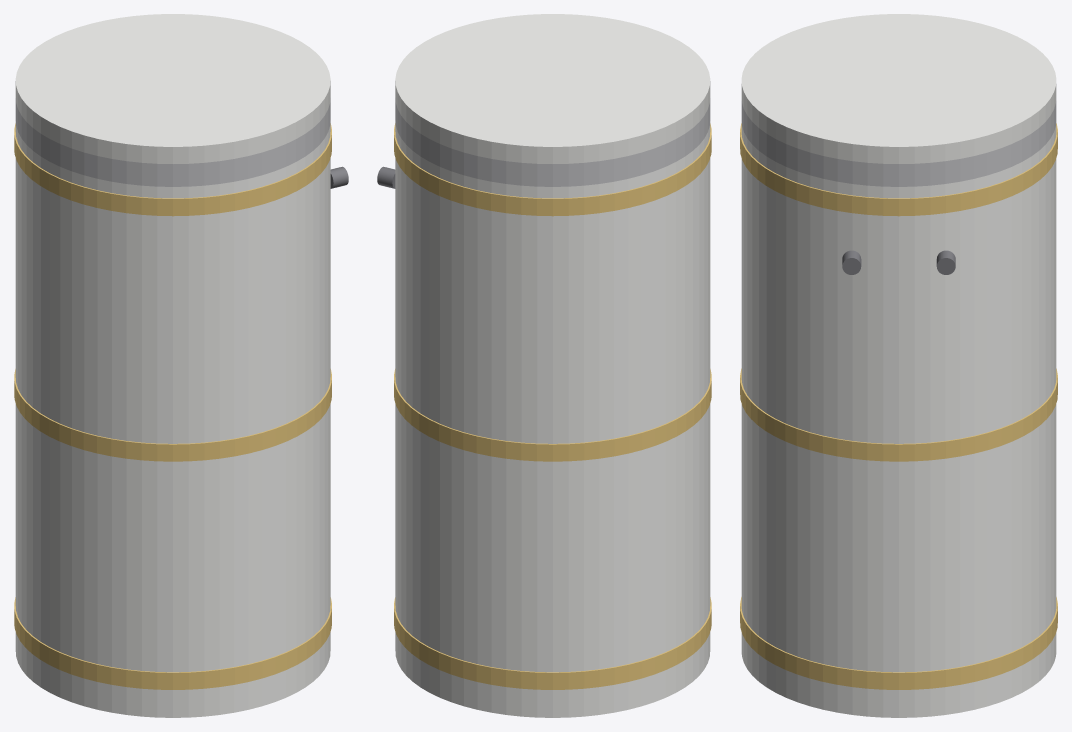
File: sci05_survey_telescope_s.glb
The picture shows the model from 3 angles, left to right: view 1: azimuth 30°, elevation 25°; view 2: azimuth 150°, elevation 25°; view 3: azimuth 270°, elevation 25°; orthographic projection.
Visible parts, largest first — view 1: tube, door, tube_bands, baffle; view 2: tube, door, tube_bands, baffle; view 3: tube, door, tube_bands, baffle, star_trackers.
Boxes of the visible parts, <box> form: tube: <box>15,120,330,717</box>; door: <box>15,14,330,163</box>; tube_bands: <box>14,123,331,689</box>; baffle: <box>15,98,330,186</box>; tube: <box>395,120,710,717</box>; door: <box>395,14,710,163</box>; tube_bands: <box>394,123,711,689</box>; baffle: <box>395,98,710,186</box>; tube: <box>741,124,1056,717</box>; door: <box>741,14,1056,163</box>; tube_bands: <box>740,123,1057,689</box>; baffle: <box>741,101,1056,186</box>; star_trackers: <box>842,250,955,274</box>.
Size of the model in its own units: 1.31 by 2.5 by 1.26.
